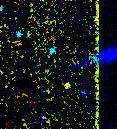star: (54, 68, 84, 98)
